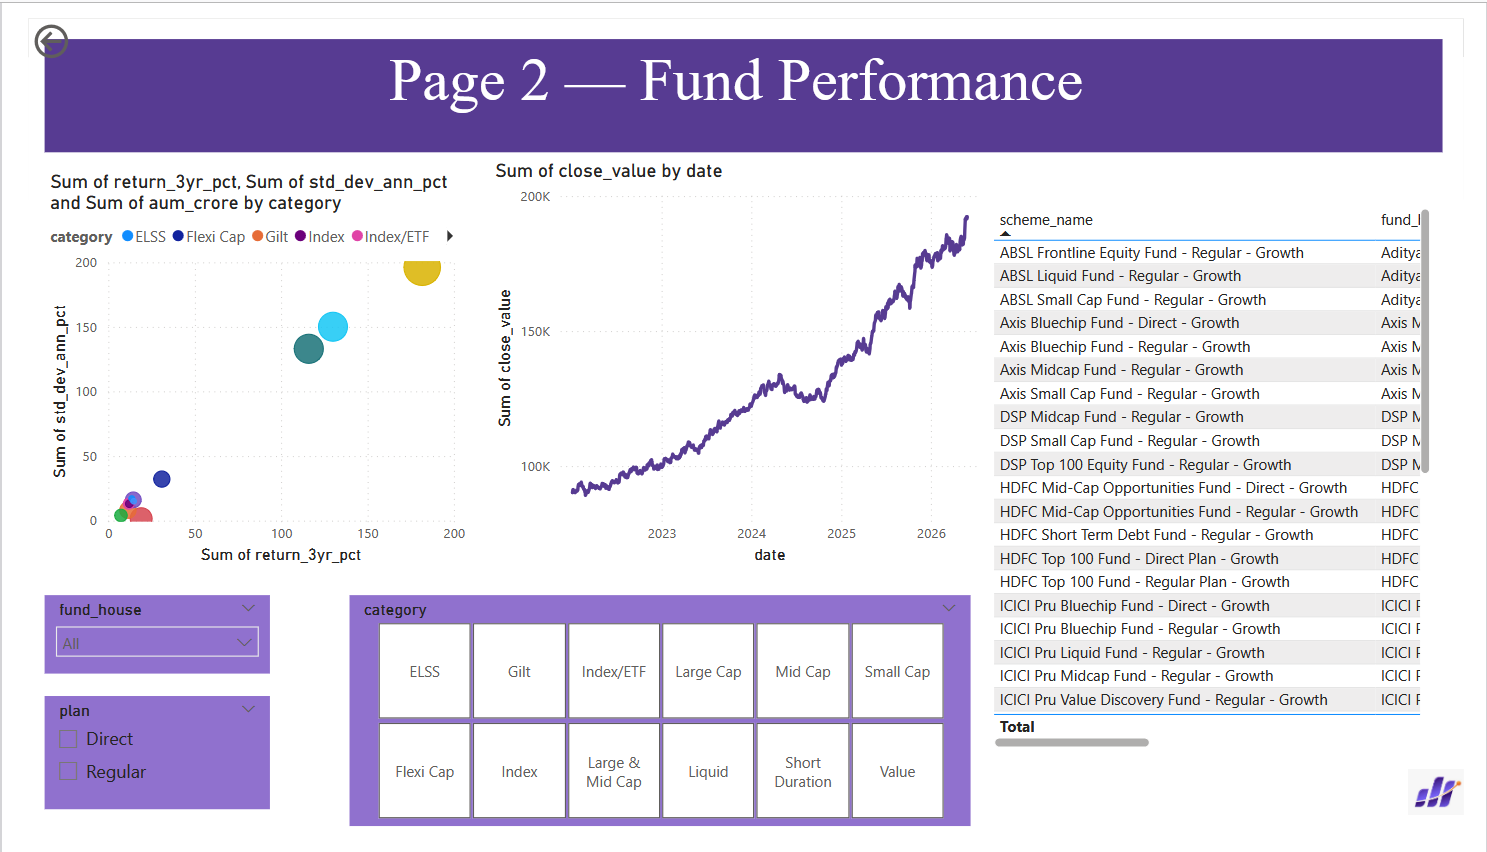

This screenshot's page, from the dashboard's own definition file:
{"tool":"powerbi","page":{"name":"Page 2","canvas":[1280,720],"ordinal":1},"visuals":[{"type":"textbox","box":[13.8,17.5,1247.5,101.2],"z":0},{"type":"scatterChart","fields":{"X":["Sum(fact_performance.return_3yr_pct)"],"Y":["Sum(fact_performance.std_dev_ann_pct)"],"Series":["fact_performance.category"],"Size":["Sum(fact_performance.aum_crore)"]},"box":[13.8,135,380,356.2],"z":1},{"type":"lineChart","fields":{"Category":["dim_benchmark.date"],"Y":["Sum(dim_benchmark.close_value)"]},"box":[411.2,125,443.8,366.2],"z":2},{"type":"tableEx","fields":{"Values":["fact_performance.scheme_name","fact_performance.fund_house","fact_performance.category","fact_performance.plan","DateTable.Return %","DateTable.Risk StdDev %","DateTable.Expense Ratio %","Sum(fact_performance.aum_crore)"]},"box":[855,163.8,400,491.2],"z":3},{"type":"slicer","fields":{"Values":["fact_performance.fund_house"]},"box":[13.8,513.8,201.2,70],"z":4},{"type":"slicer","fields":{"Values":["fact_performance.category"]},"box":[286.2,513.8,553.8,206.2],"z":5},{"type":"slicer","fields":{"Values":["fact_performance.plan"]},"box":[13.8,603.8,201.2,101.2],"z":6},{"type":"actionButton","box":[0,0,100,40],"z":7},{"type":"image","box":[1230,658.8,50,61.2],"z":8}]}

Visuals, with their boxes in screenshot pixels (x1, y1, x2, y2), scaled from the page's 1280x720 canvas onto the 1487x852 screenshot:
textbox: box=[16, 21, 1465, 140]
scatterChart - Sum(fact_performance.return_3yr_pct) x Sum(fact_performance.std_dev_ann_pct): box=[16, 160, 457, 581]
lineChart - dim_benchmark.date x Sum(dim_benchmark.close_value): box=[478, 148, 993, 581]
tableEx - fact_performance.scheme_name x fact_performance.fund_house: box=[993, 194, 1458, 775]
slicer - fact_performance.fund_house: box=[16, 608, 250, 691]
slicer - fact_performance.category: box=[332, 608, 976, 851]
slicer - fact_performance.plan: box=[16, 714, 250, 834]
actionButton: box=[0, 0, 116, 47]
image: box=[1429, 780, 1486, 851]
